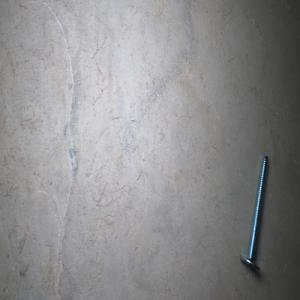Bolt: (239, 154, 269, 271)
